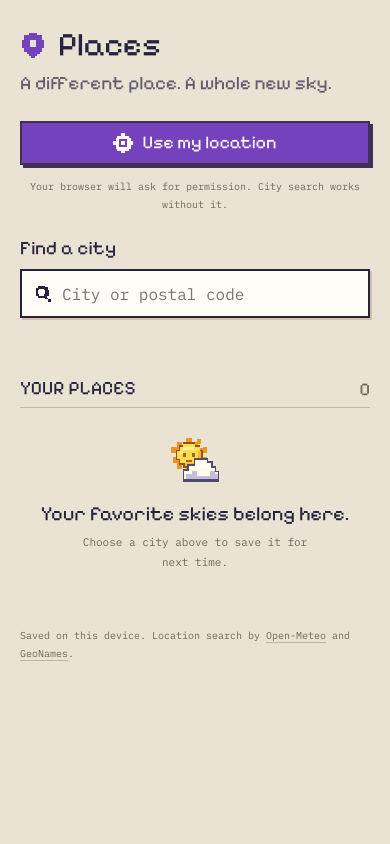
Test: retries a failed city search without editing its query
Type "Asheville" into the search field labelled "Find a city" at (215, 294), box [62,271,368,316]
Wait 350 ms
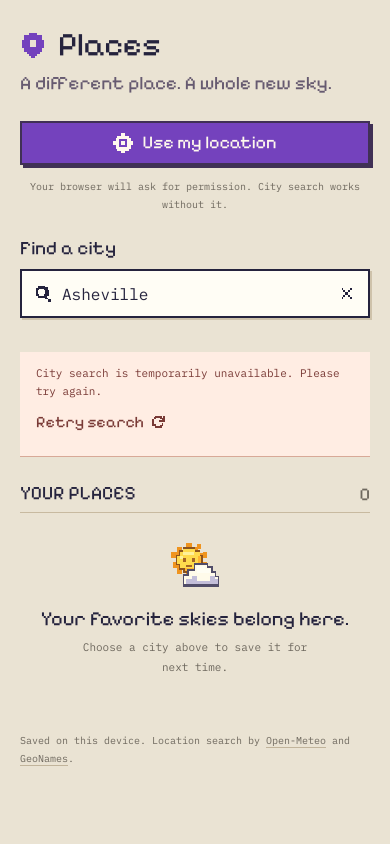
Expected: the message "City search is temporarily unavailable. Please try again. Retry search" is shown, [20,352,370,457]
Click the button "Retry search" at (100, 422), box [36,400,165,444]
Wait 350 ms
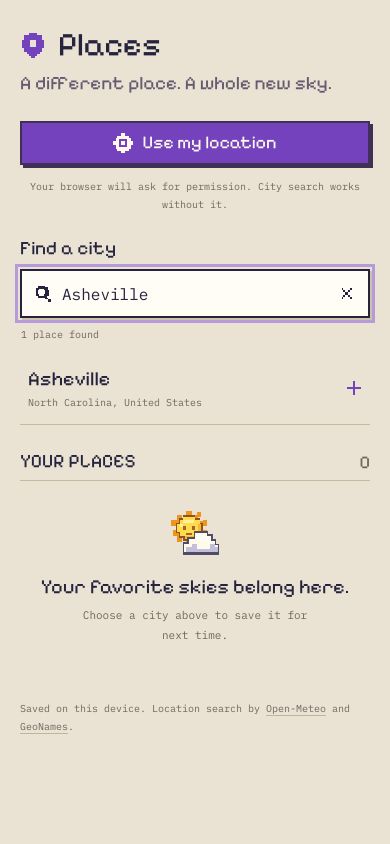
Expected: the button "Asheville North Carolina, United States" is shown, [20,352,370,424]
